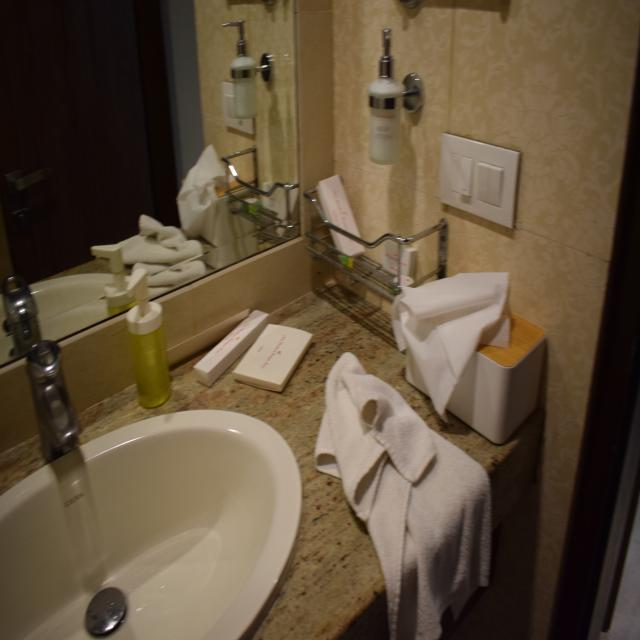mess: (126, 308, 564, 592), (322, 186, 548, 482)
